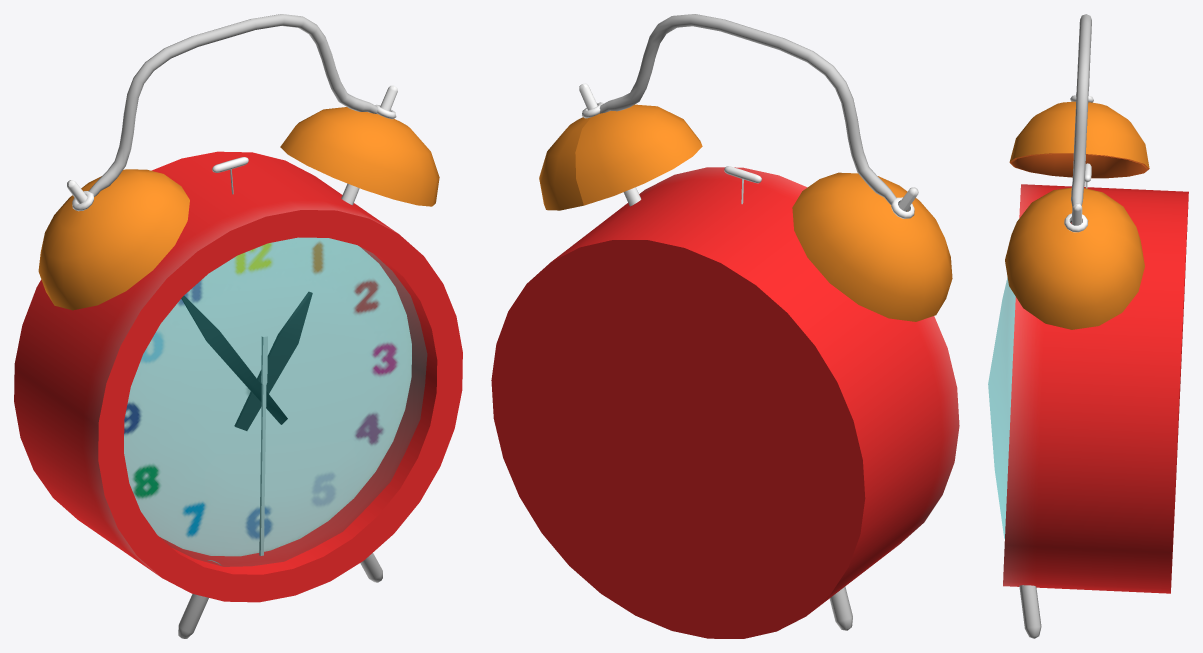
File: Clock.fbx
3 views of the same model, side by side, from view 1: azimuth 30°, elevation 25°; view 2: azimuth 150°, elevation 25°; view 3: azimuth 270°, elevation 25° (orthographic). The views are drawn at different scales.
Visible parts, largest first — view 1: Clock; view 2: Clock; view 3: Clock.
Boxes of the visible parts, bbox=[...] form: Clock: bbox=[14, 14, 462, 638]; Clock: bbox=[491, 14, 959, 638]; Clock: bbox=[988, 14, 1188, 638].
Bounding box in the file's own units: 4.11 × 5.95 × 1.94.
